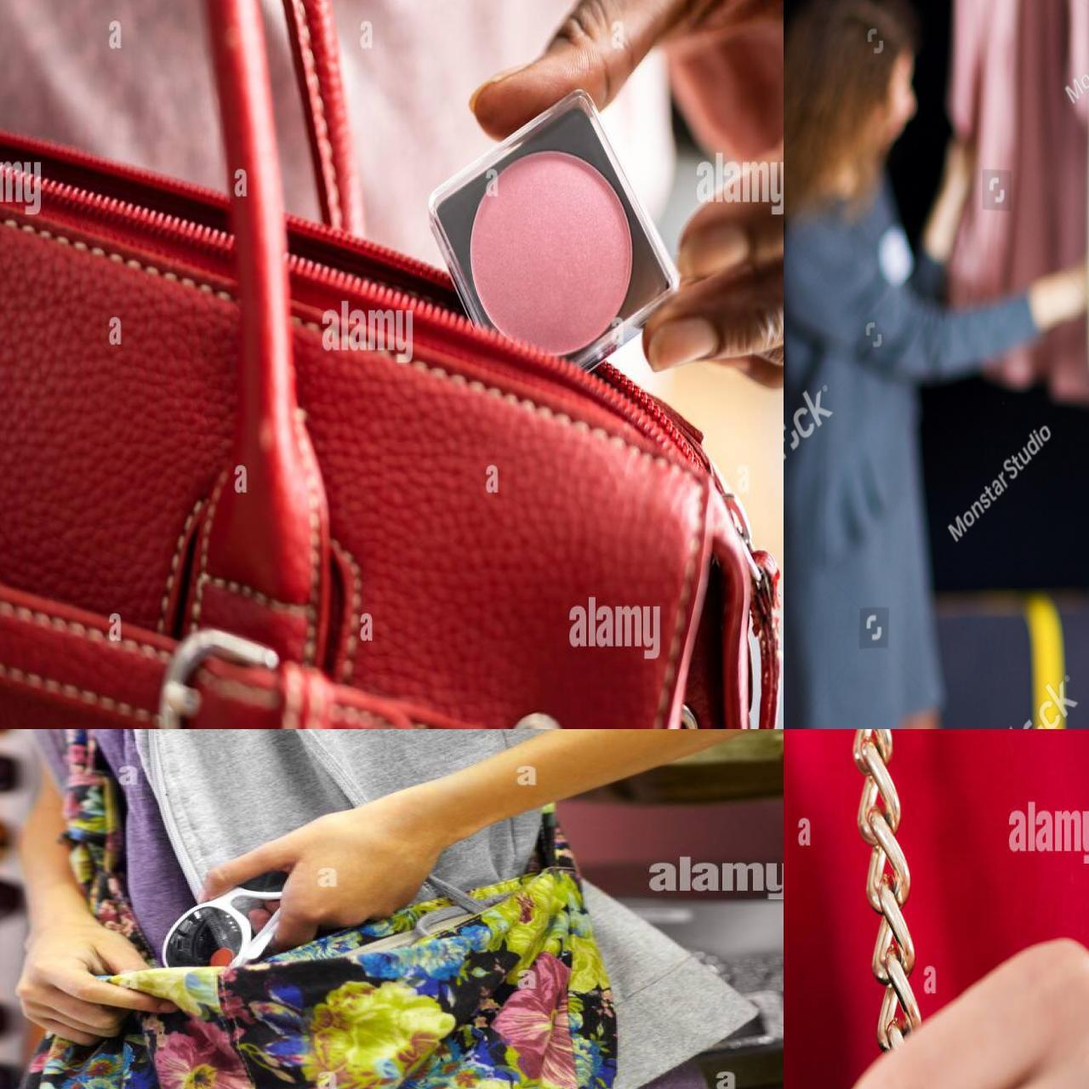shoplifting: (17, 28, 773, 723), (11, 743, 668, 1089)
